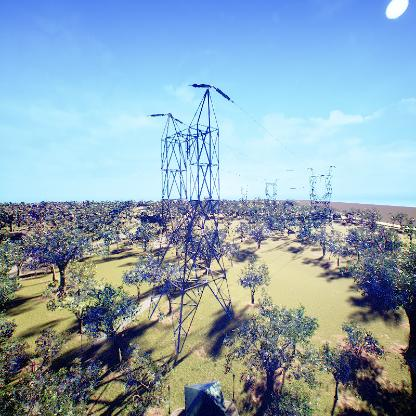tower: (146, 83, 239, 367), (302, 162, 338, 240)
